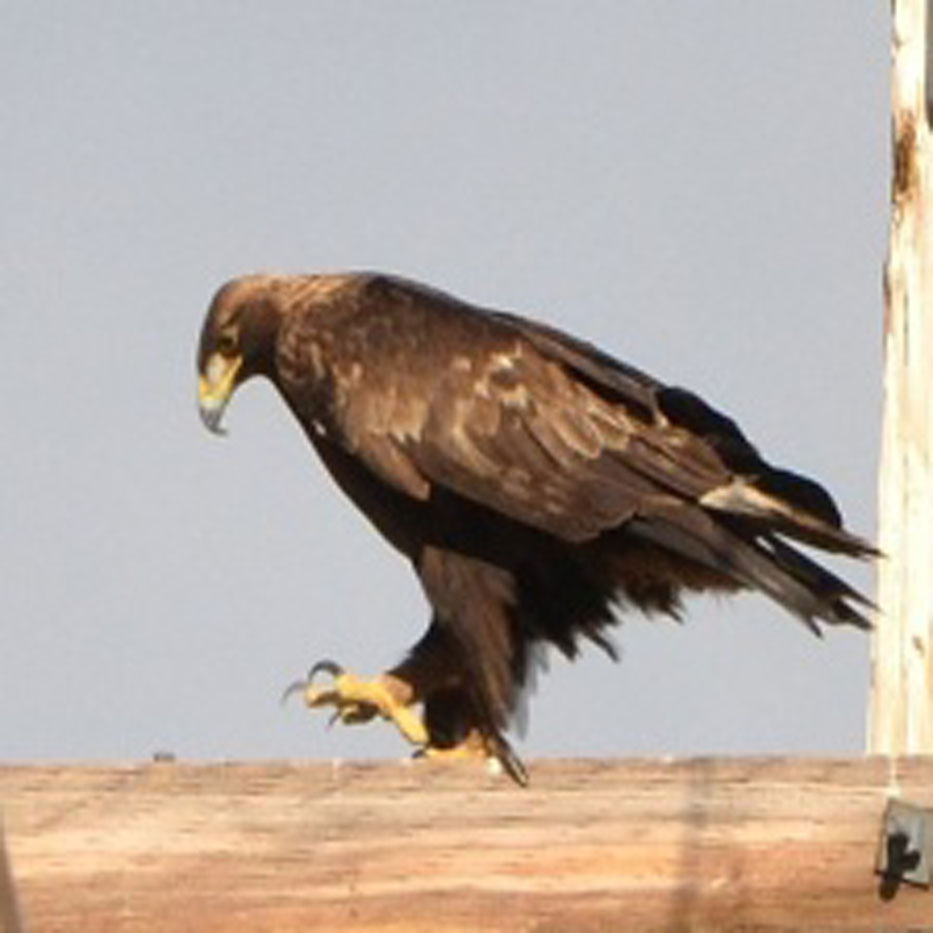Pengoyak Daging: (177, 380, 242, 442)
